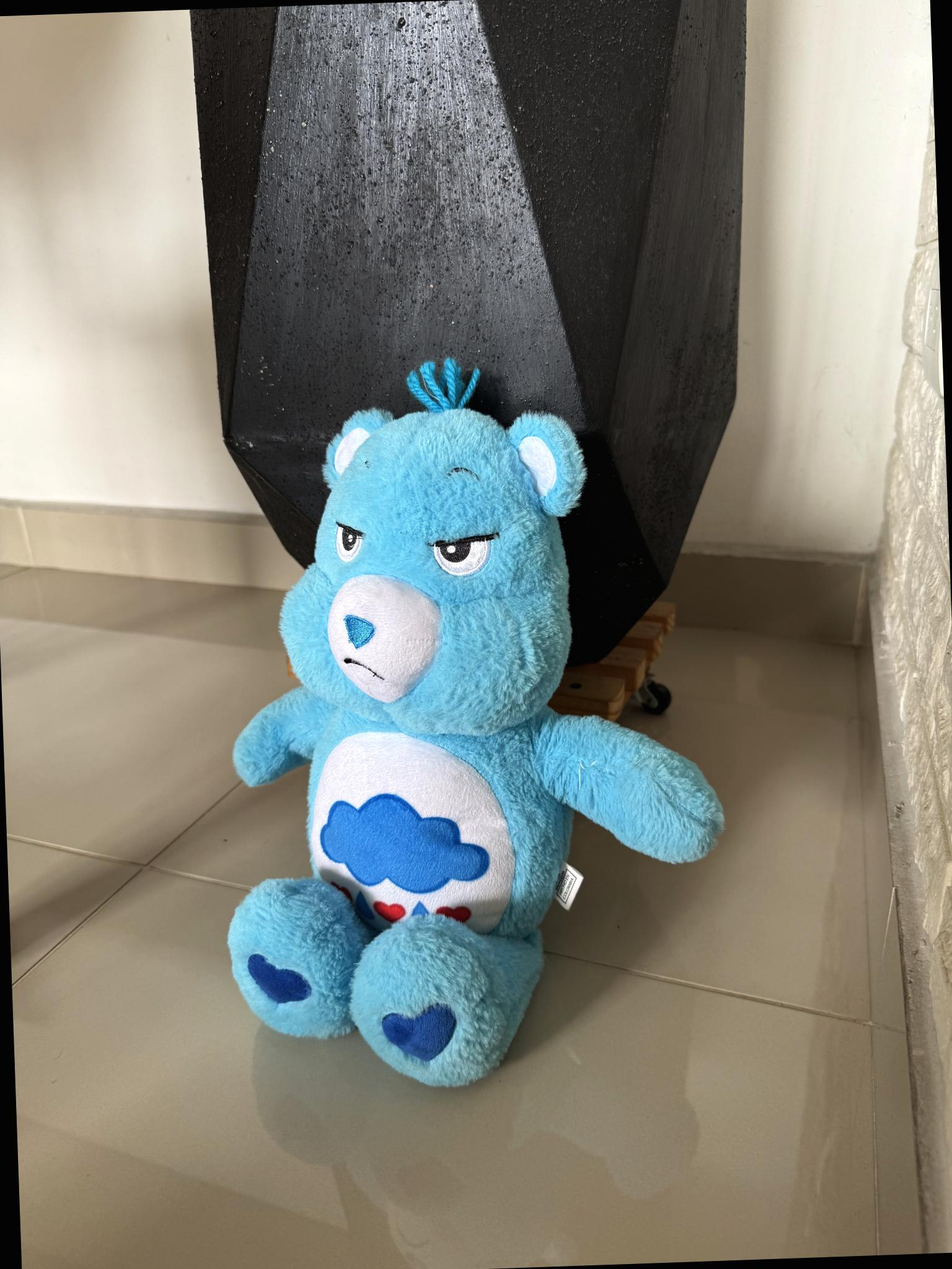peluche_Juan Jose: (225, 391, 618, 1099)
